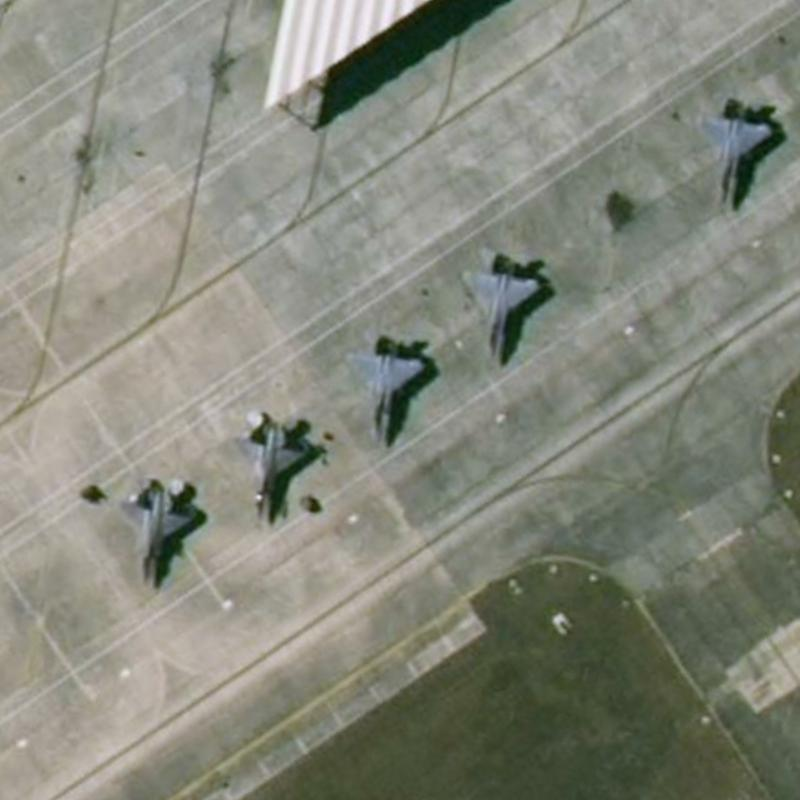A13: (450, 243, 553, 360), (334, 324, 431, 445), (689, 90, 781, 213)
A15: (108, 469, 205, 593), (232, 404, 325, 527)
